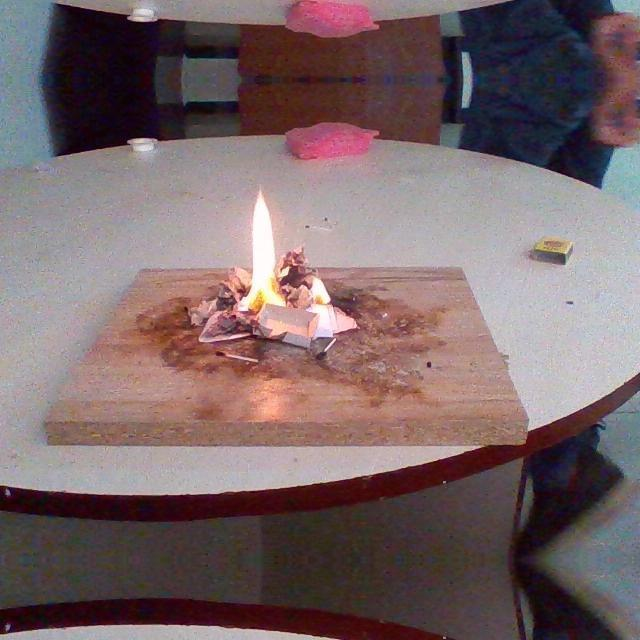smoke: (236, 187, 286, 311), (306, 275, 334, 306)
